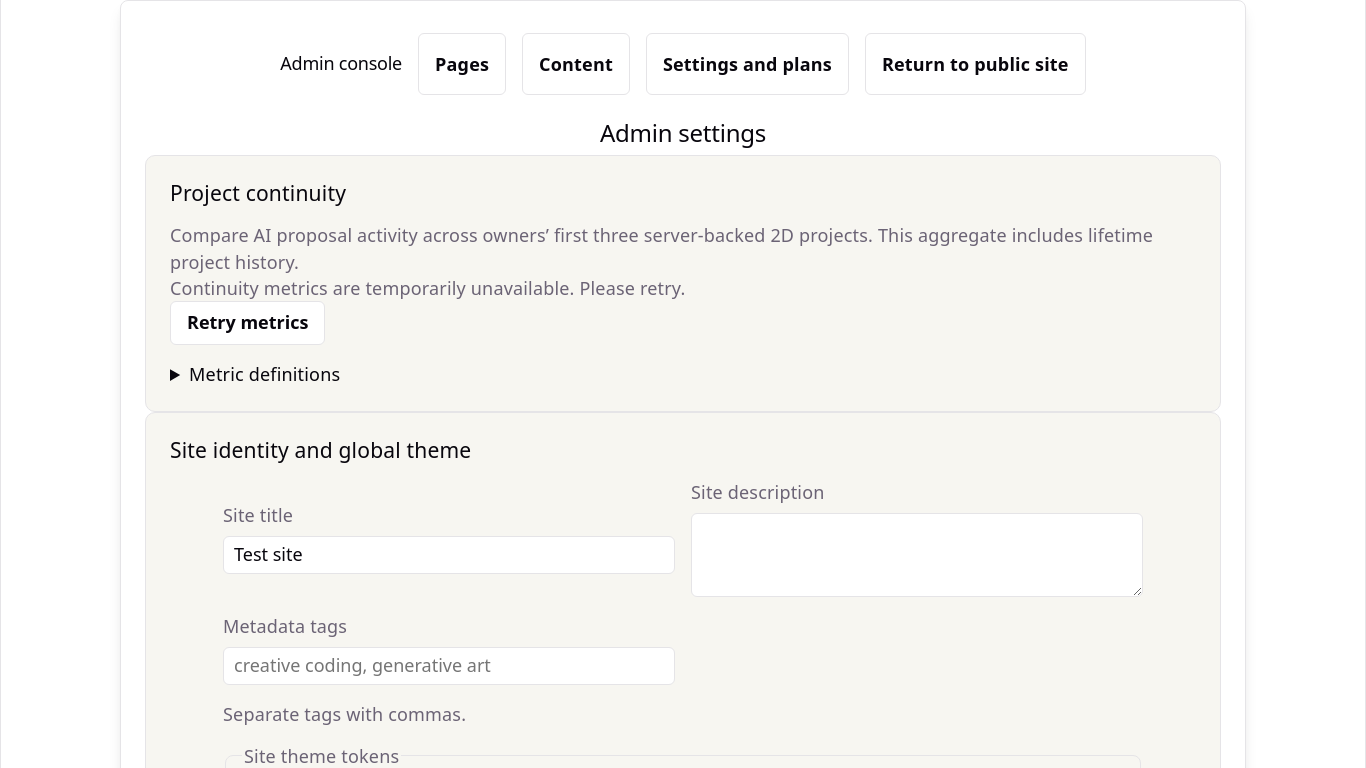
AdminSettings presentation choices (#643) › loads continuity metrics independently from settings and offers retry on failure
Expected: the heading "Site identity and global theme" is shown, left=170, top=435, right=471, bottom=464
Expected: the message shows "Continuity metrics are temporarily unavailable. Please retry.", left=170, top=276, right=686, bottom=300
Click the button "Retry metrics": {"x": 248, "y": 323} left=170, top=301, right=325, bottom=345
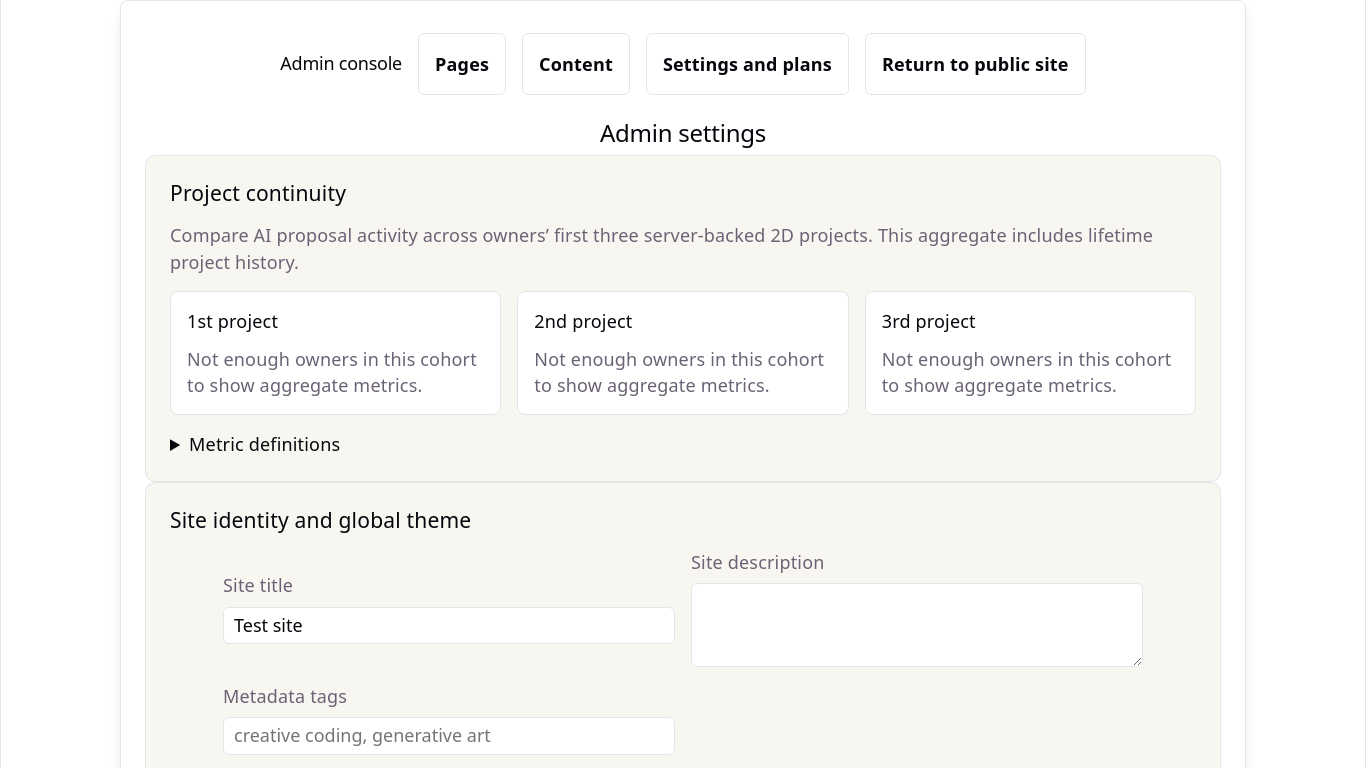
Expected: the text "Not enough owners in this cohort to show aggregate metrics." is shown 3 times, left=187, top=346, right=484, bottom=398; left=534, top=346, right=832, bottom=398; left=882, top=346, right=1179, bottom=398
